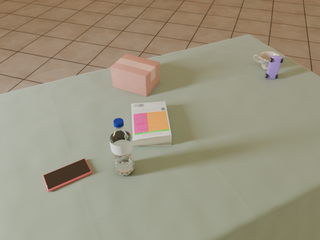book: (132, 101, 172, 146)
bottle: (109, 118, 134, 176)
box: (111, 54, 159, 97)
cup: (254, 51, 280, 70)
phone: (43, 159, 92, 192)
toy_car: (265, 55, 283, 79)
